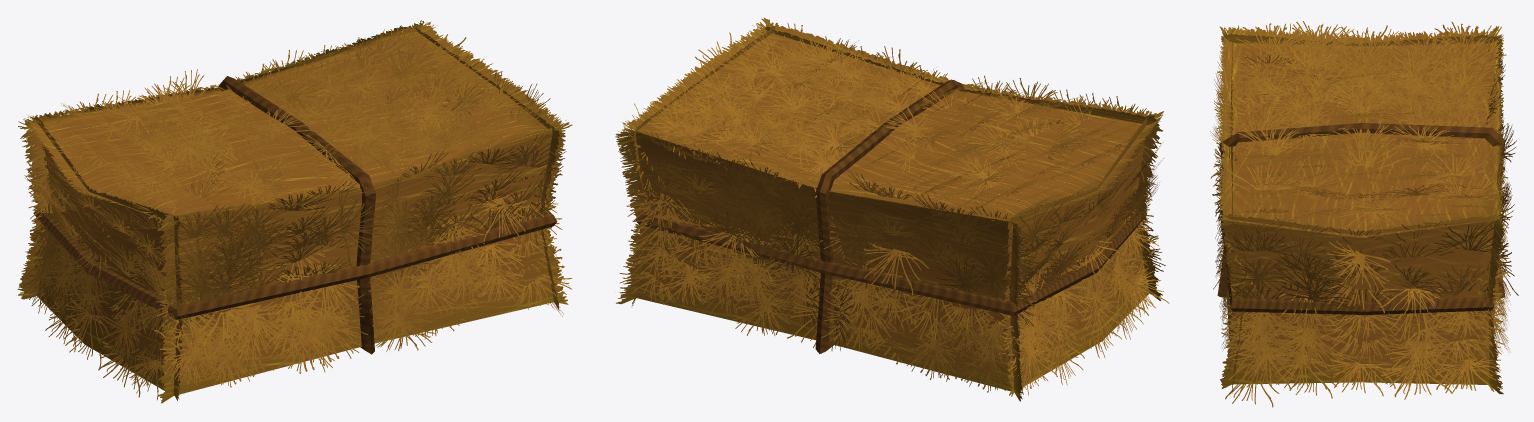
The model's file is haystack.obj.
3 views of the same model, side by side, from view 1: azimuth 30°, elevation 25°; view 2: azimuth 150°, elevation 25°; view 3: azimuth 270°, elevation 25° (orthographic). The views are drawn at different scales.
Parts seen in each view (by area): view 1: haystack1; view 2: haystack1; view 3: haystack1.
Boxes of the visible parts, x1=… form: haystack1: x1=17, y1=20, x2=572, y2=403; haystack1: x1=615, y1=17, x2=1169, y2=401; haystack1: x1=1210, y1=21, x2=1518, y2=407.
Size of the model in its own units: 1.44 by 0.6615 by 0.8995.
Materials: 1 (1 with a texture image).
